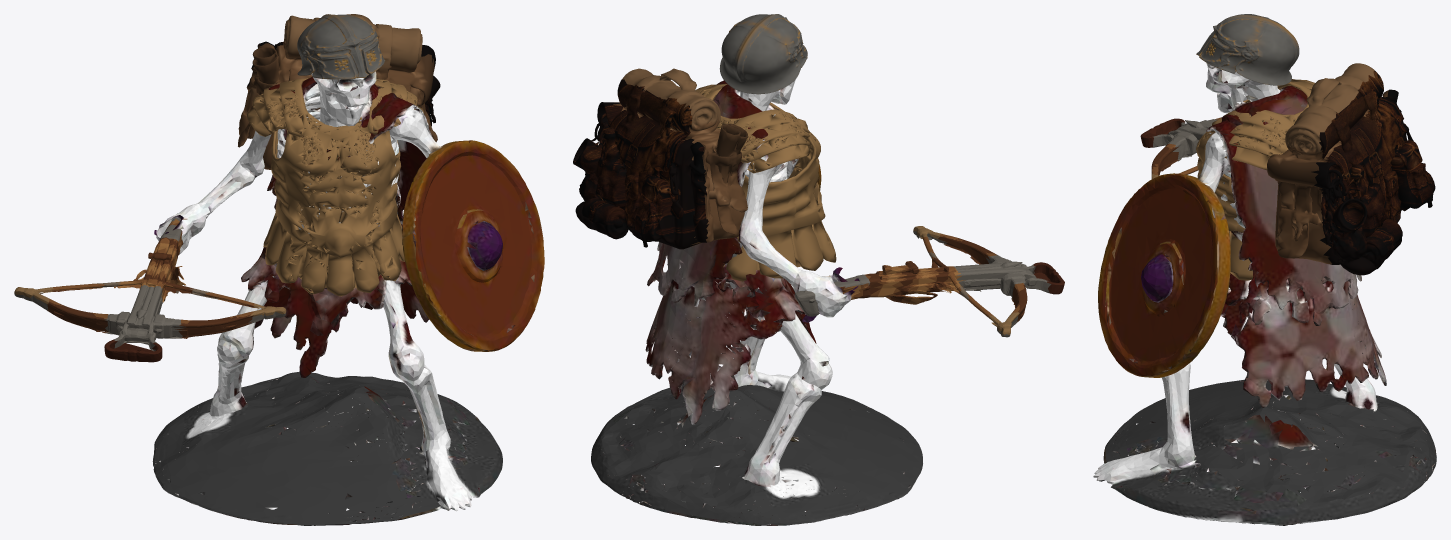
File: esqueleto_besta.glb
The picture shows the model from 3 angles, left to right: view 1: azimuth 30°, elevation 25°; view 2: azimuth 150°, elevation 25°; view 3: azimuth 270°, elevation 25°; orthographic projection. The views are drawn at different scales.
Visible parts, largest first — view 1: tmpqn8_akp3.ply, tmp51ftxfg4.ply, tmpv4pdbkyq.ply, tmpx9o2kwey.ply, tmpl4f4wbxn.ply; view 2: tmpqn8_akp3.ply, tmpx9o2kwey.ply, tmp51ftxfg4.ply, tmpv4pdbkyq.ply, tmpl4f4wbxn.ply; view 3: tmpqn8_akp3.ply, tmpx9o2kwey.ply, tmpl4f4wbxn.ply, tmp51ftxfg4.ply, tmpv4pdbkyq.ply.
Part boxes in pixels (x1,y1,x2,y2): tmpqn8_akp3.ply: (152,71,544,525); tmp51ftxfg4.ply: (246,78,423,296); tmpv4pdbkyq.ply: (14,213,286,362); tmpx9o2kwey.ply: (238,14,440,182); tmpl4f4wbxn.ply: (297,14,385,79); tmpqn8_akp3.ply: (591,79,922,525); tmpx9o2kwey.ply: (573,68,747,249); tmp51ftxfg4.ply: (695,84,836,281); tmpv4pdbkyq.ply: (794,226,1064,337); tmpl4f4wbxn.ply: (719,14,807,94); tmpqn8_akp3.ply: (1093,62,1436,525); tmpx9o2kwey.ply: (1267,63,1435,275); tmpl4f4wbxn.ply: (1196,14,1299,85); tmp51ftxfg4.ply: (1196,79,1314,280); tmpv4pdbkyq.ply: (1140,117,1221,178).
Bounding box in the file's own units: 2.2 × 2.01 × 1.42.
12 materials, 2 textured.
